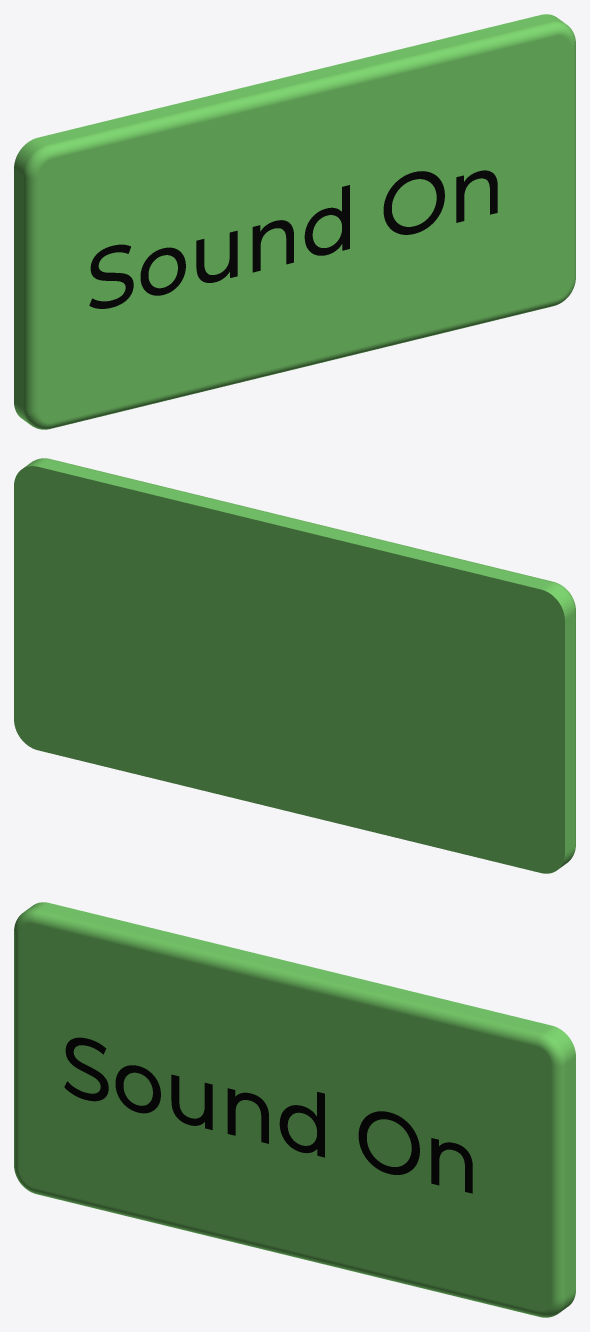
File: SoundOn.glb
The picture shows the model from 3 angles, top to bottom: view 1: azimuth 30°, elevation 25°; view 2: azimuth 150°, elevation 25°; view 3: azimuth 330°, elevation 25°; orthographic projection.
Visible parts, largest first — view 1: Text.003; view 2: Text.003; view 3: Text.003.
Part boxes in pixels (x1=…): Text.003: x1=14, y1=14, x2=575, y2=429; Text.003: x1=14, y1=458, x2=575, y2=873; Text.003: x1=14, y1=902, x2=575, y2=1317.
Bounding box in the file's own units: 0.5208 × 0.2562 × 0.0296.
Materials: 2 (2 with a texture image).
